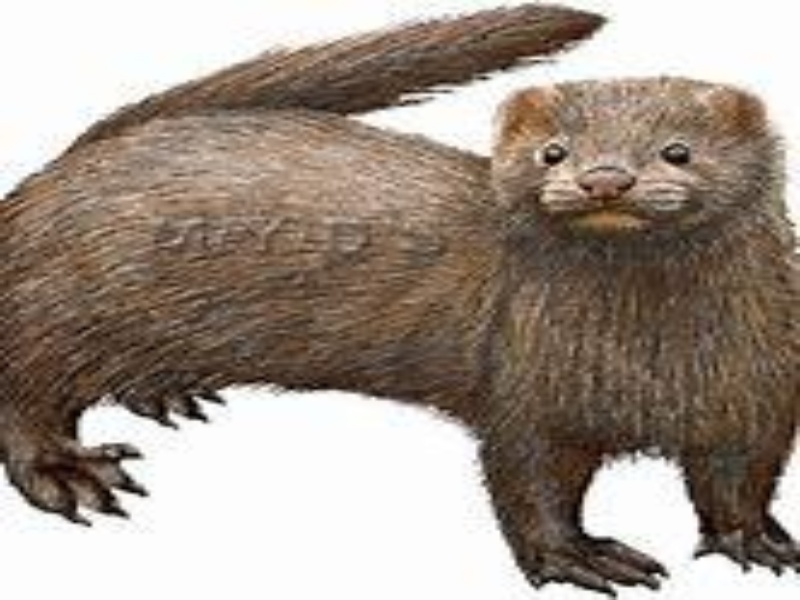minkish: (9, 1, 795, 594)
